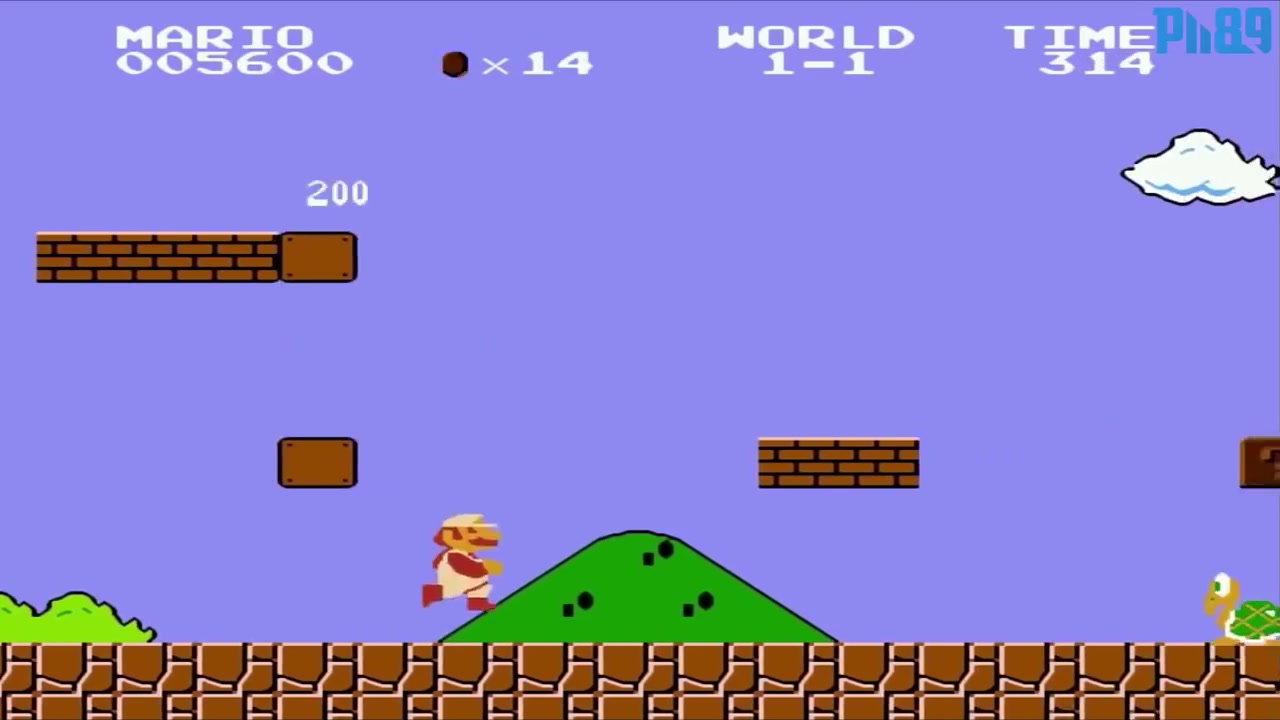mario: (410, 507, 512, 615)
